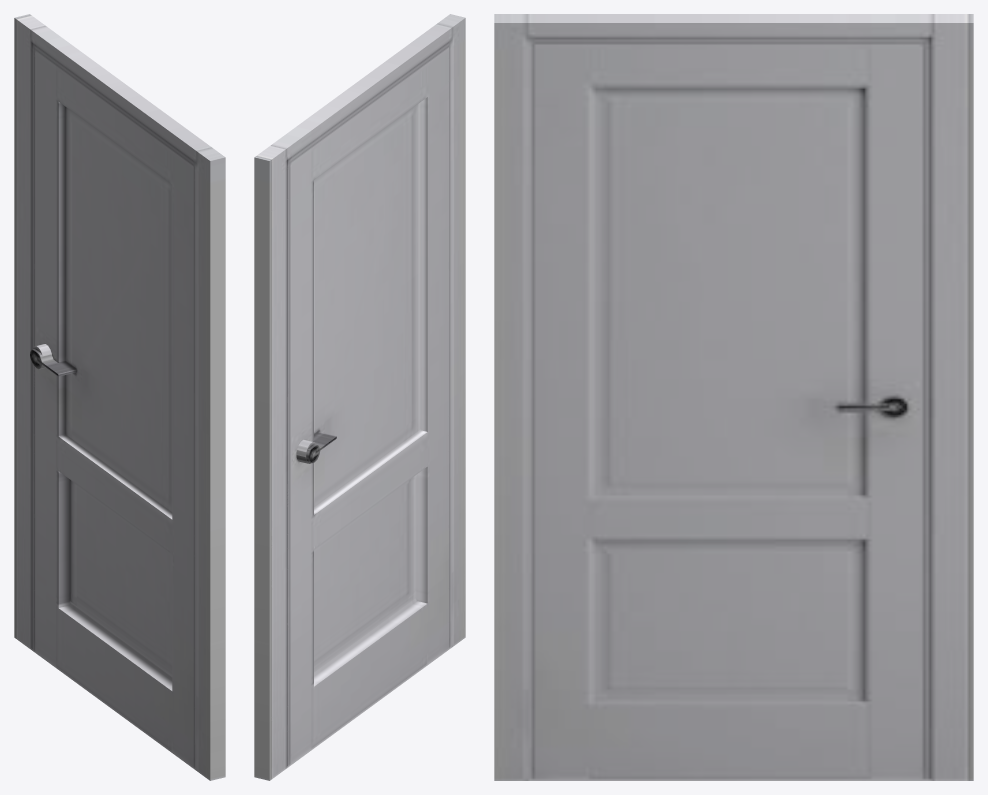
Rendered from Door.fbx.
3 views of the same model, side by side, from view 1: azimuth 30°, elevation 25°; view 2: azimuth 150°, elevation 25°; view 3: azimuth 270°, elevation 25° (orthographic). The views are drawn at different scales.
Parts seen in each view (by area): view 1: Cube.002; view 2: Cube.002; view 3: Cube.002.
Boxes of the visible parts, box(x1,y1,x2,y2) form: Cube.002: box(14, 14, 225, 780); Cube.002: box(254, 14, 465, 780); Cube.002: box(494, 14, 973, 780).
Bounding box in the file's own units: 20.5 × 452 × 259.
